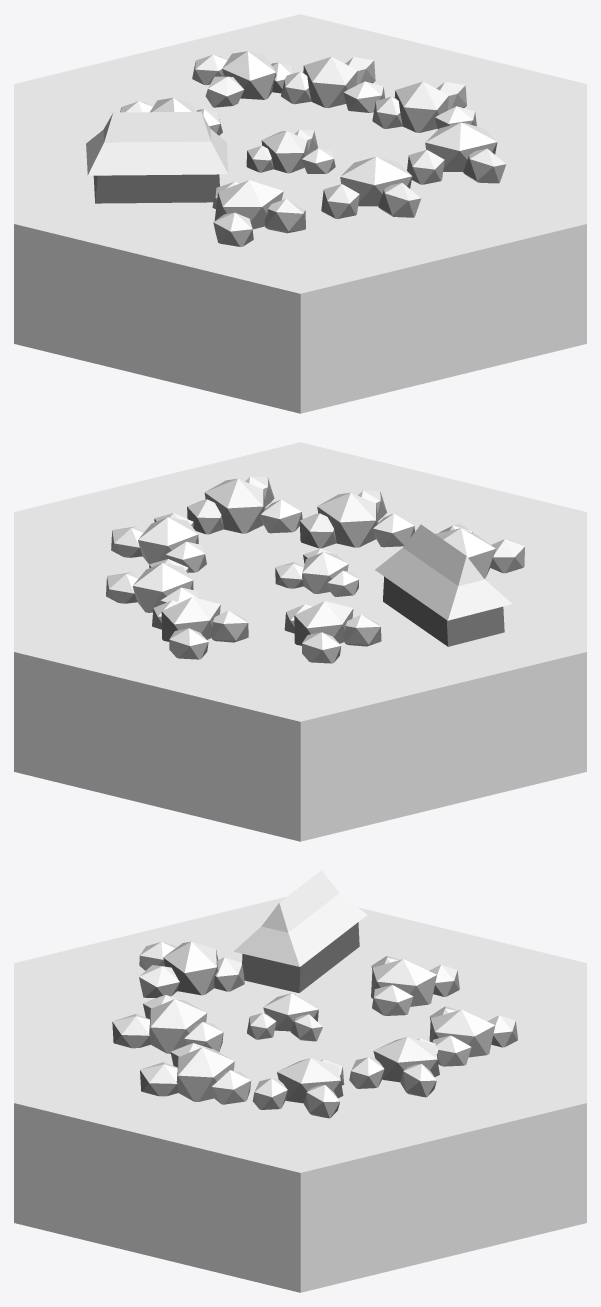
The model's file is Casas_Rocoso_Nieve_1.fbx.
3 views of the same model, one above another, from view 1: azimuth 30°, elevation 25°; view 2: azimuth 150°, elevation 25°; view 3: azimuth 270°, elevation 25° (orthographic).
Visible parts, largest first — view 1: Casas_Rocoso_Nieve_1; view 2: Casas_Rocoso_Nieve_1; view 3: Casas_Rocoso_Nieve_1.
Boxes of the visible parts, box(x1,y1,x2,y2) form: Casas_Rocoso_Nieve_1: box(14, 14, 586, 413); Casas_Rocoso_Nieve_1: box(14, 442, 586, 841); Casas_Rocoso_Nieve_1: box(14, 870, 586, 1292).
Bounding box in the file's own units: 200 × 65.63 × 173.
